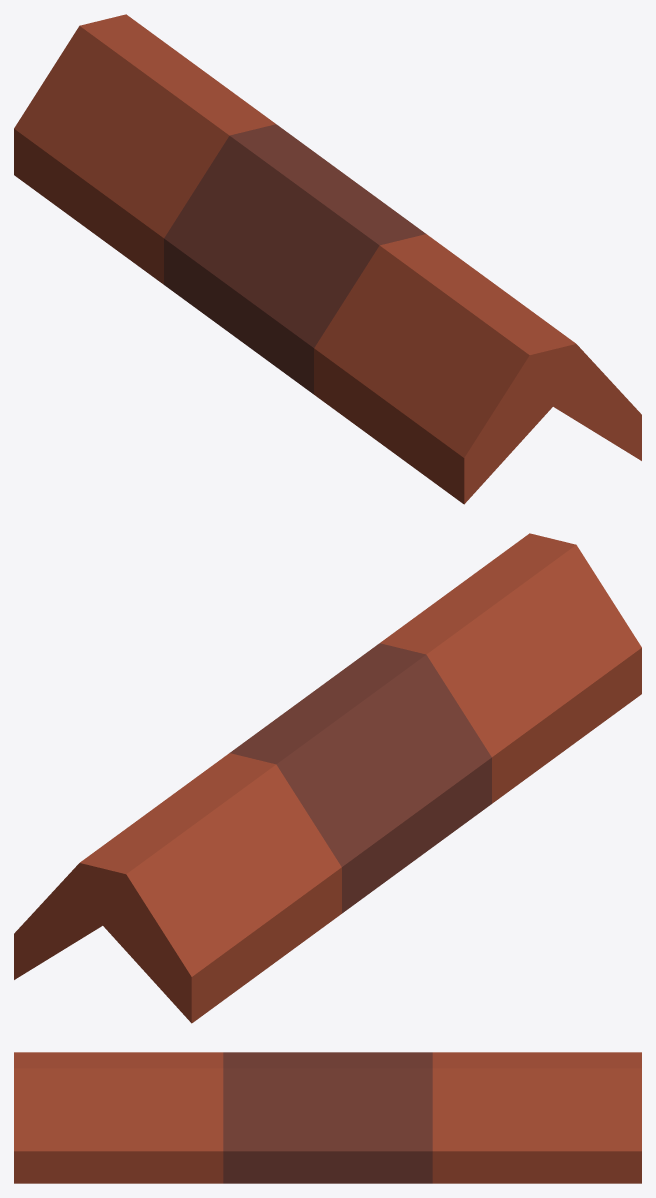
Rendered from saddle_ridge.glb.
3 renders of one model, top to bottom at view 1: azimuth 30°, elevation 25°; view 2: azimuth 150°, elevation 25°; view 3: azimuth 270°, elevation 25°, orthographic. The views are drawn at different scales.
Visible parts, largest first — view 1: Saddle ridge; view 2: Saddle ridge; view 3: Saddle ridge.
Boxes of the visible parts, box(x1,y1,x2,y2) form: Saddle ridge: box(14, 14, 641, 504); Saddle ridge: box(14, 533, 641, 1023); Saddle ridge: box(14, 1052, 641, 1183).
Size of the model in its own units: 0.228 by 0.1635 by 1.
